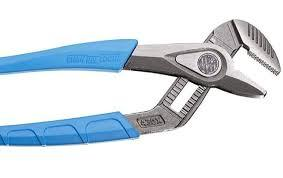pliers: (0, 17, 281, 146)
